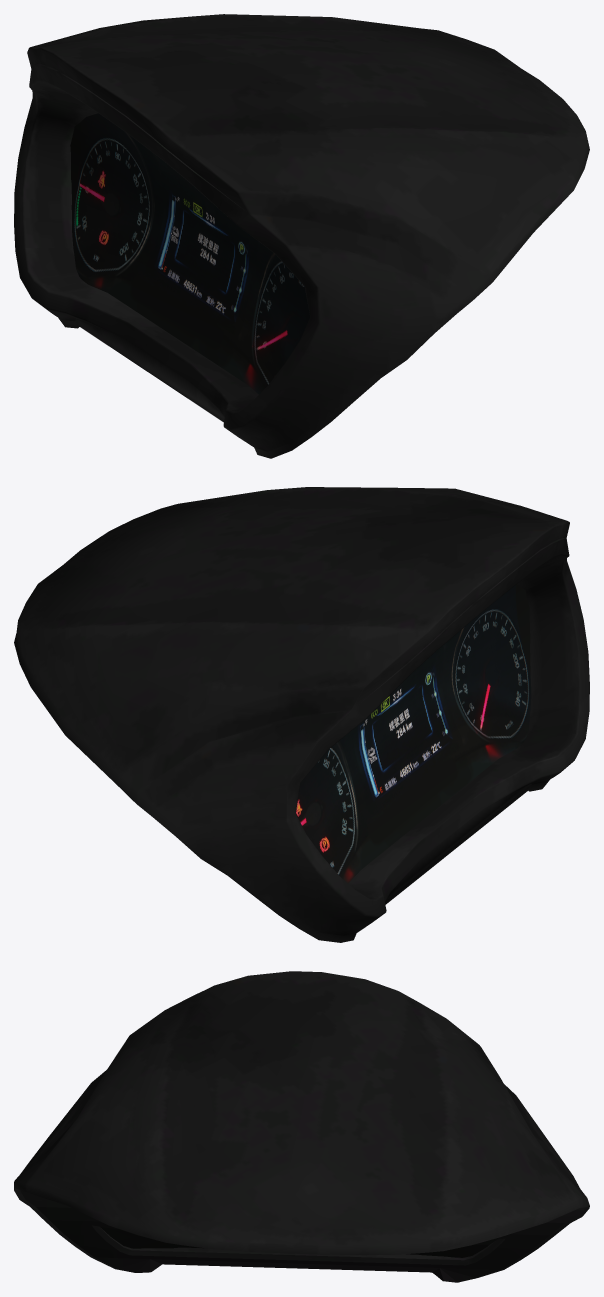
Rendered from E5_仪表盘.FBX.
3 views of the same model, one above another, from view 1: azimuth 30°, elevation 25°; view 2: azimuth 150°, elevation 25°; view 3: azimuth 270°, elevation 25° (orthographic). The views are drawn at different scales.
Parts seen in each view (by area): view 1: YBP02, YBP01; view 2: YBP02, YBP01; view 3: YBP02, YBP03, YBP01.
Boxes of the visible parts, <box> form: YBP02: <box>14,14,589,458</box>; YBP01: <box>70,113,310,394</box>; YBP02: <box>14,487,589,942</box>; YBP01: <box>296,584,531,883</box>; YBP02: <box>14,971,589,1282</box>; YBP03: <box>20,1190,583,1282</box>; YBP01: <box>100,1227,489,1257</box>.
Size of the model in its own units: 31.07 by 22.34 by 41.27.
